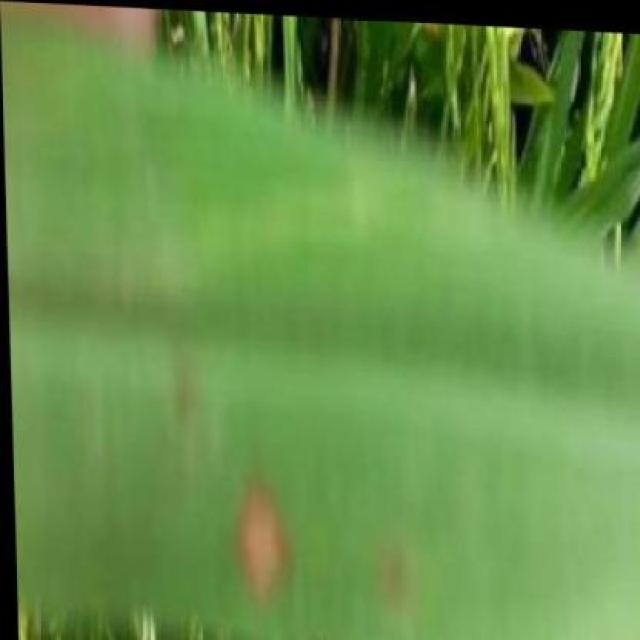Bacterial_Leaf_Blight: (166, 467, 305, 615)
